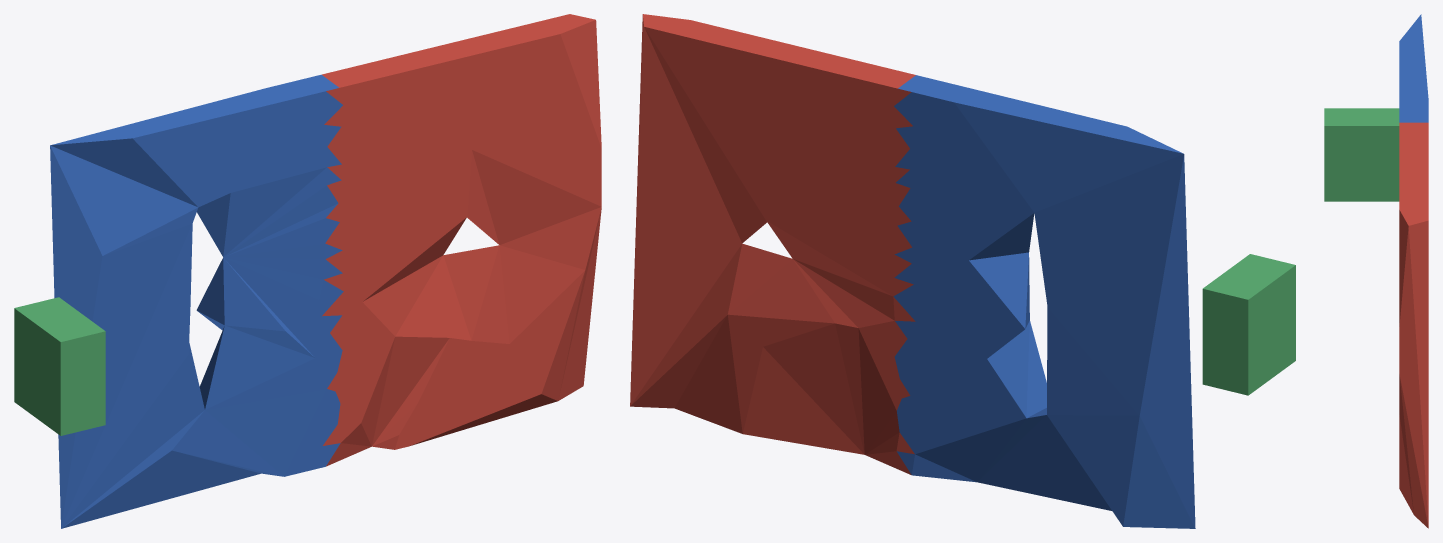
3 views of the same model, side by side, from view 1: azimuth 30°, elevation 25°; view 2: azimuth 150°, elevation 25°; view 3: azimuth 270°, elevation 25° (orthographic). The views are drawn at different scales.
Visible parts, largest first — view 1: plate, bracket; view 2: plate, bracket; view 3: plate, bracket.
Boxes of the visible parts, <box> form: plate: <box>50,14,601,528</box>; bracket: <box>14,297,105,435</box>; plate: <box>630,14,1195,528</box>; bracket: <box>1202,254,1295,395</box>; plate: <box>1399,14,1428,528</box>; bracket: <box>1324,108,1399,201</box>.
Size of the model in its own units: 6.55 by 4 by 1.25.
